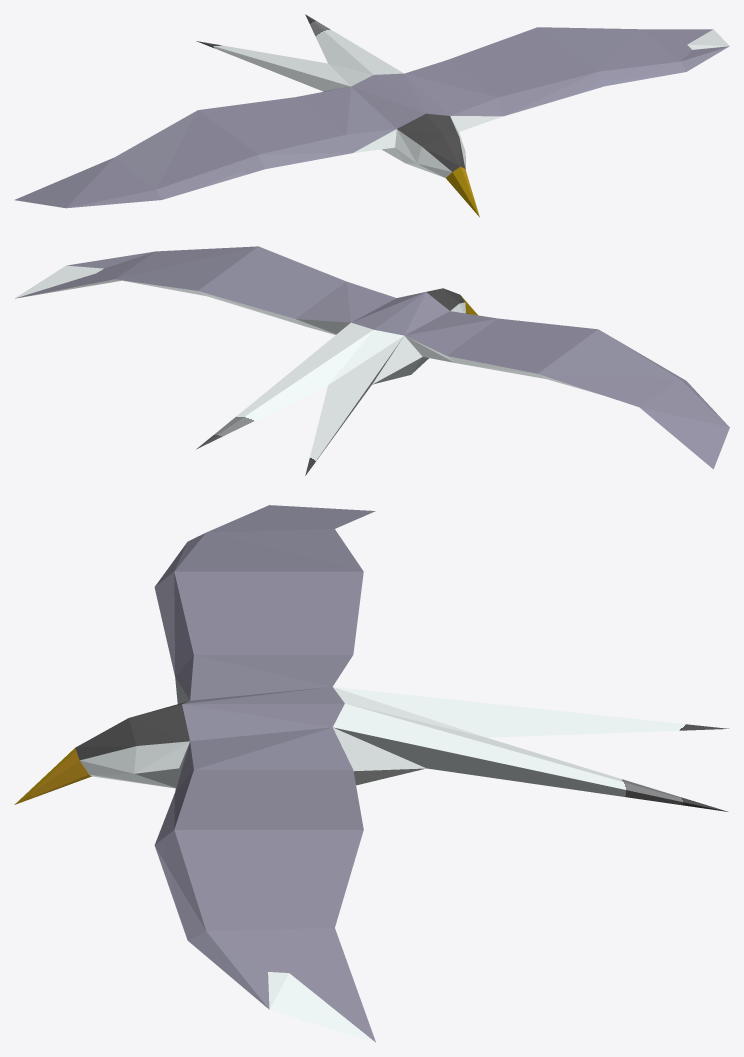
Rendered from Bird.obj.
3 renders of one model, top to bottom at view 1: azimuth 30°, elevation 25°; view 2: azimuth 150°, elevation 25°; view 3: azimuth 270°, elevation 25°, orthographic. The views are drawn at different scales.
Parts seen in each view (by area): view 1: n0b0; view 2: n0b0; view 3: n0b0.
Part boxes in pixels (left/top/right/bottom): n0b0: left=14, top=14, right=729, bottom=217; n0b0: left=15, top=246, right=729, bottom=475; n0b0: left=14, top=505, right=728, bottom=1042.
Bounding box in the file's own units: 1.34 × 0.1229 × 0.7633.
1 material, 1 textured.
